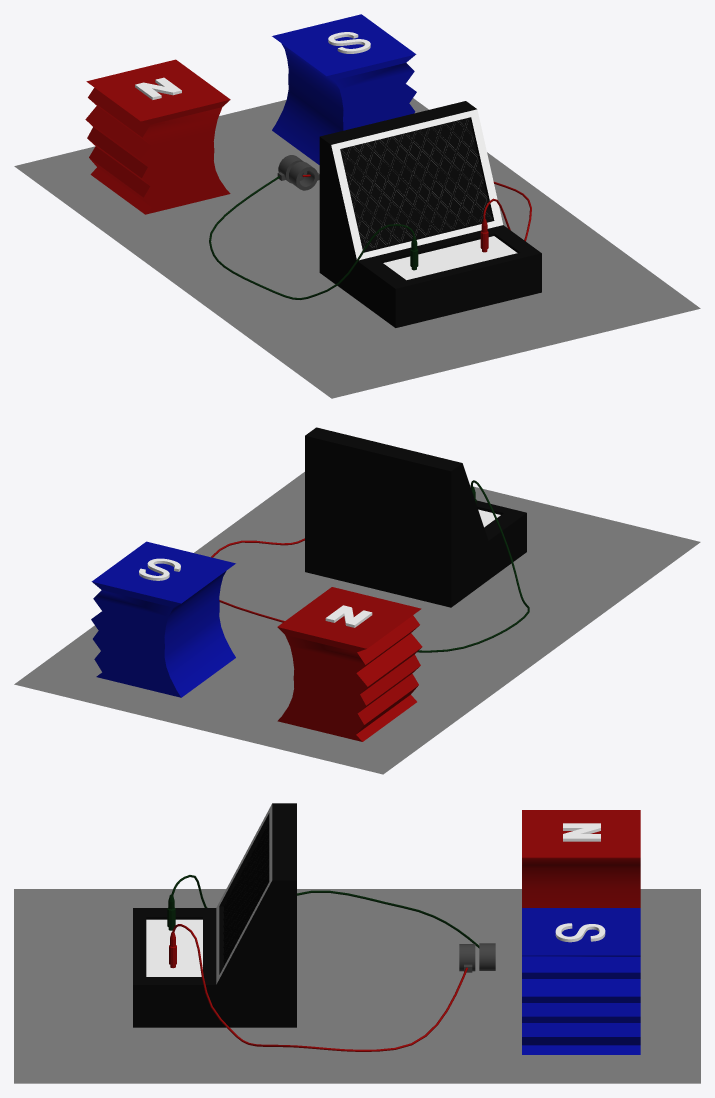
The model's file is ac genrator.obj.
3 renders of one model, top to bottom at view 1: azimuth 30°, elevation 25°; view 2: azimuth 150°, elevation 25°; view 3: azimuth 270°, elevation 25°, orthographic. The views are drawn at different scales.
Parts seen in each view (by area): view 1: Plane005_Mesh.002, Plane004_Mesh, Plane006_Mesh.010, Plane002_Mesh.001, Object001_Mesh.013, Line002_Mesh.008, Tube001_Mesh.005, Text002_Mesh.016, Text001_Mesh.015; view 2: Plane005_Mesh.002, Plane004_Mesh, Plane002_Mesh.001, Plane006_Mesh.010, Line002_Mesh.008, Text002_Mesh.016, Text001_Mesh.015; view 3: Plane005_Mesh.002, Plane004_Mesh, Plane002_Mesh.001, Plane006_Mesh.010, Object001_Mesh.013, Line001_Mesh.004, Line002_Mesh.008, Text002_Mesh.016, Text001_Mesh.015, Tube002_Mesh.006.
Part boxes in pixels (left/top/right/bottom): Plane005_Mesh.002: left=14, top=98, right=700, bottom=398; Plane004_Mesh: left=319, top=101, right=541, bottom=327; Plane006_Mesh.010: left=85, top=59, right=230, bottom=214; Plane002_Mesh.001: left=272, top=14, right=416, bottom=164; Object001_Mesh.013: left=340, top=117, right=492, bottom=249; Line002_Mesh.008: left=209, top=176, right=415, bottom=299; Tube001_Mesh.005: left=289, top=161, right=317, bottom=190; Text002_Mesh.016: left=135, top=77, right=181, bottom=99; Text001_Mesh.015: left=328, top=32, right=370, bottom=53; Plane005_Mesh.002: left=14, top=472, right=700, bottom=774; Plane004_Mesh: left=305, top=427, right=526, bottom=607; Plane002_Mesh.001: left=91, top=541, right=235, bottom=697; Plane006_Mesh.010: left=277, top=587, right=422, bottom=741; Line002_Mesh.008: left=417, top=480, right=529, bottom=652; Text002_Mesh.016: left=325, top=605, right=372, bottom=627; Text001_Mesh.015: left=139, top=558, right=180, bottom=580; Plane005_Mesh.002: left=14, top=889, right=700, bottom=1083; Plane004_Mesh: left=133, top=803, right=296, bottom=1027; Plane002_Mesh.001: left=522, top=908, right=640, bottom=1054; Plane006_Mesh.010: left=522, top=810, right=640, bottom=907; Object001_Mesh.013: left=223, top=823, right=269, bottom=967; Line001_Mesh.004: left=172, top=924, right=467, bottom=1051; Line002_Mesh.008: left=171, top=875, right=479, bottom=948; Text002_Mesh.016: left=563, top=823, right=600, bottom=841; Text001_Mesh.015: left=555, top=923, right=605, bottom=942; Tube002_Mesh.006: left=479, top=943, right=495, bottom=970.
Bounding box in the file's own units: 0.5673 × 0.2017 × 0.8454.
